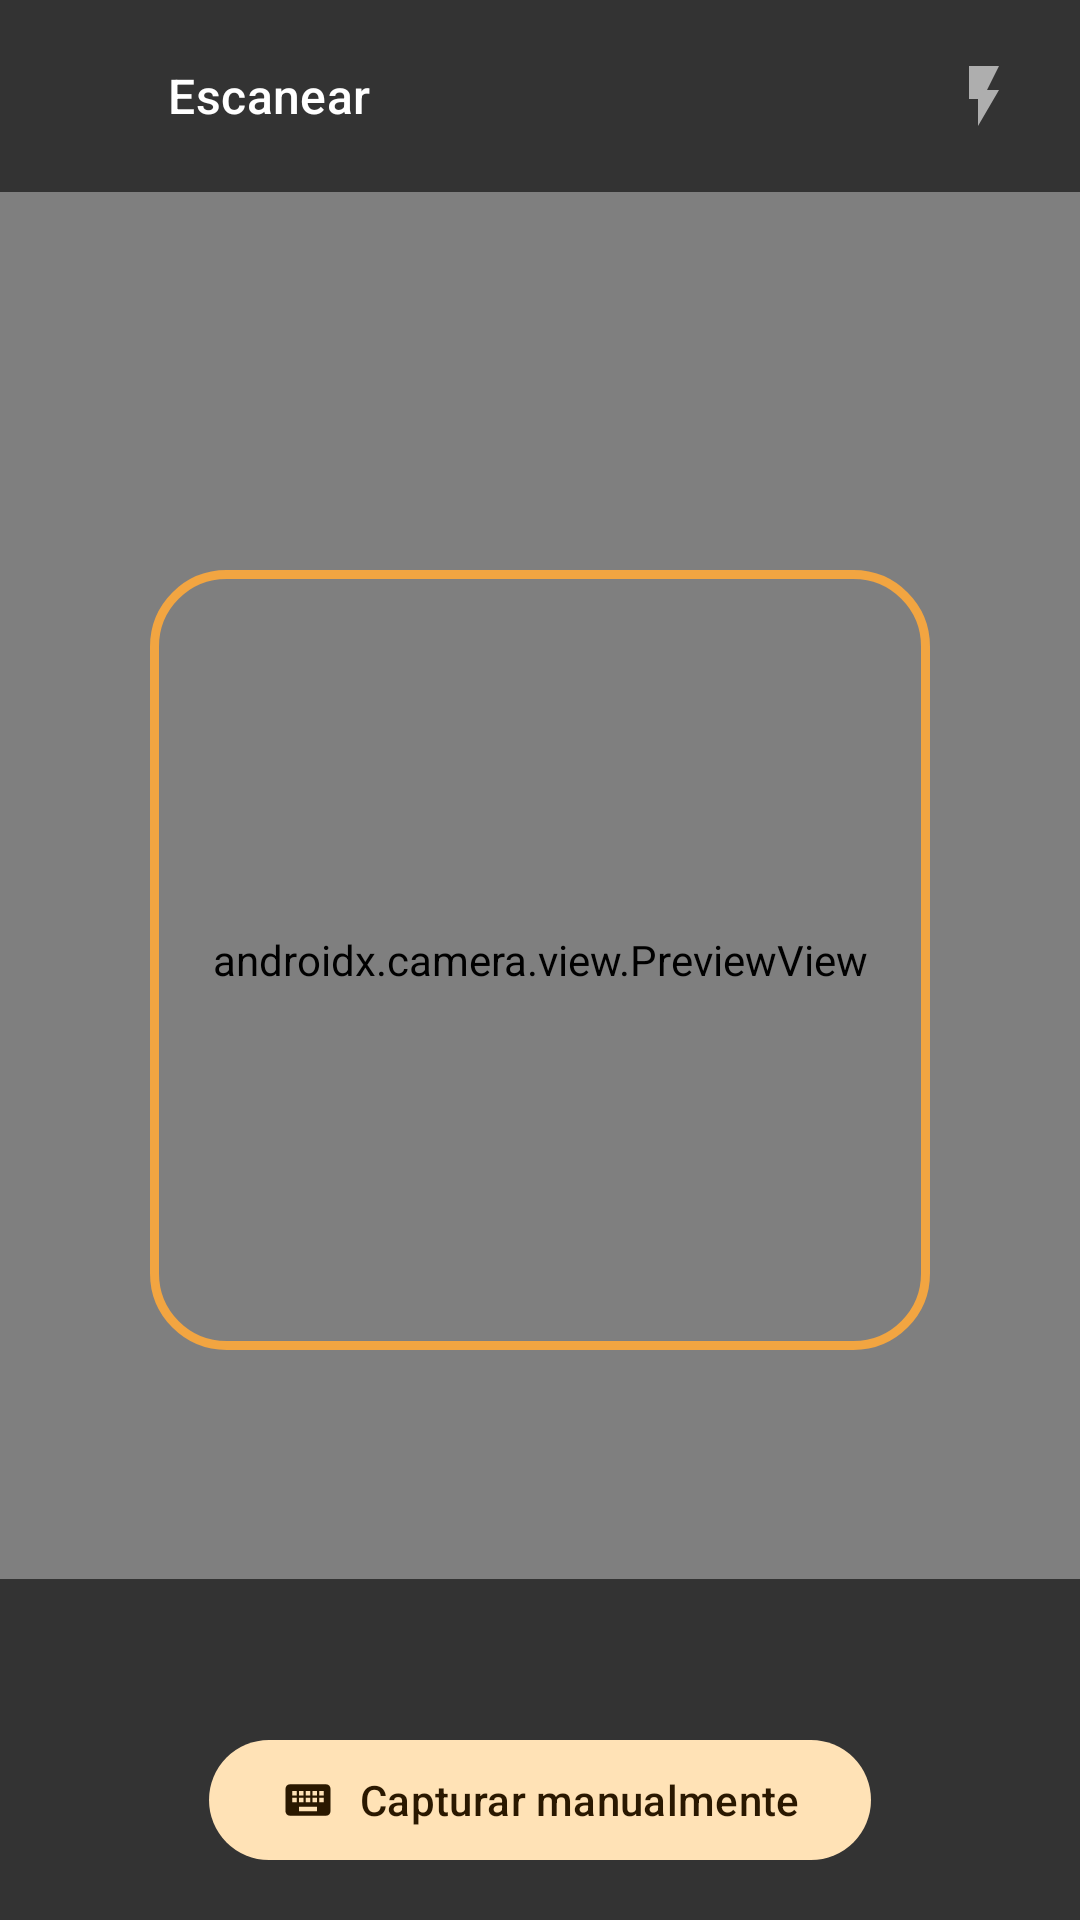

Where icons sit on this 1080px×1920px app screen, as (x1, y1, x2, y2):
Linterna: (969, 66, 999, 126)
